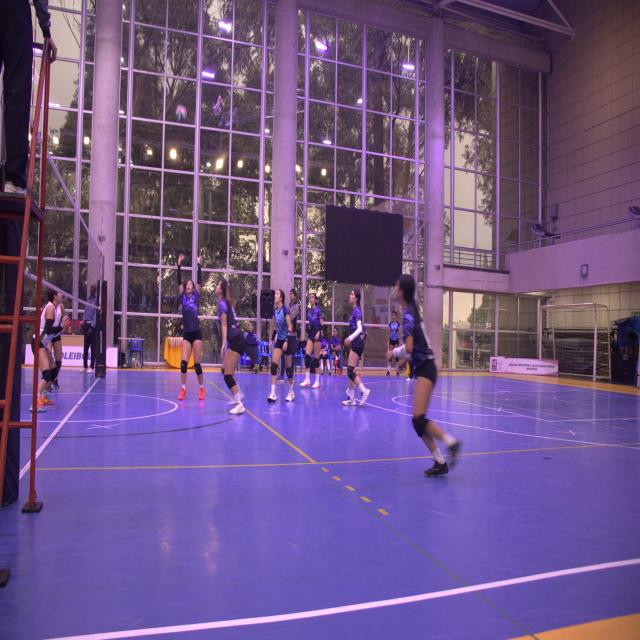volleyball: (175, 105, 187, 123)
